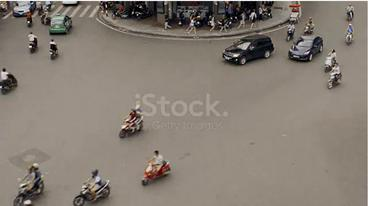car: (218, 29, 281, 69), (287, 30, 328, 67), (43, 11, 75, 35), (10, 1, 37, 21)
motorcycle: (124, 153, 181, 188), (10, 174, 55, 206), (65, 181, 119, 206), (320, 68, 351, 92), (116, 115, 143, 141), (0, 70, 25, 95), (321, 48, 340, 74), (45, 38, 60, 60), (26, 34, 40, 56), (343, 24, 354, 50), (22, 11, 35, 28), (303, 20, 316, 34), (346, 7, 356, 22), (286, 23, 294, 41)
